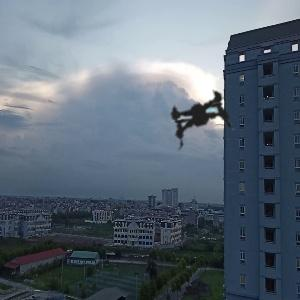drone: (96, 19, 291, 214)
